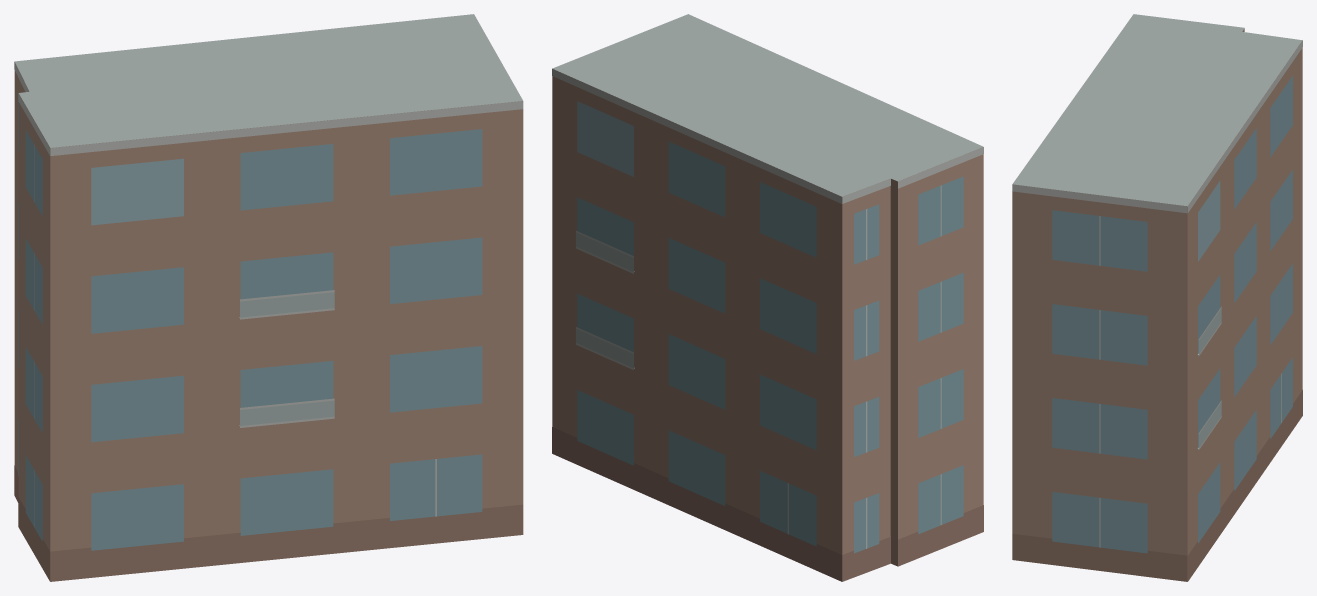
The model's file is survey-upis-33023098.glb.
3 views of the same model, side by side, from view 1: azimuth 30°, elevation 25°; view 2: azimuth 150°, elevation 25°; view 3: azimuth 270°, elevation 25° (orthographic). The views are drawn at different scales.
Visible parts, largest first — view 1: survey-upis-33023098.tmp; view 2: survey-upis-33023098.tmp; view 3: survey-upis-33023098.tmp.
Part boxes in pixels (<box>): survey-upis-33023098.tmp: <box>14,14,523,581</box>; survey-upis-33023098.tmp: <box>552,14,983,581</box>; survey-upis-33023098.tmp: <box>1012,14,1302,581</box>.
Size of the model in its own units: 14.17 by 12.9 by 9.05.
